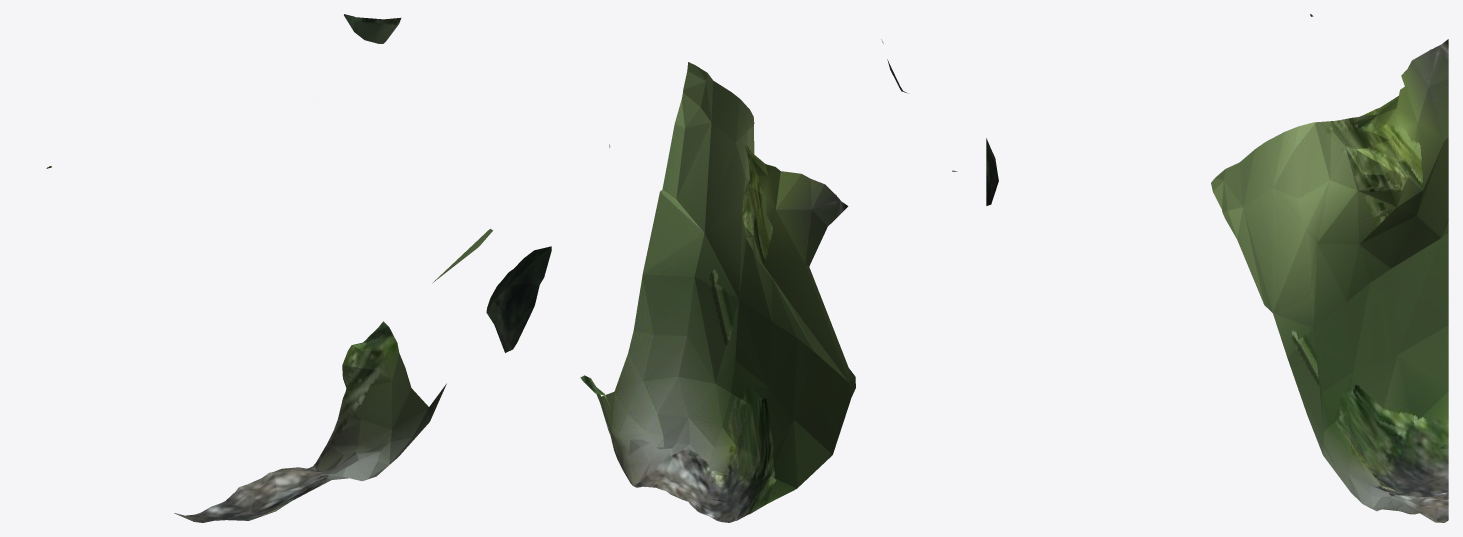
3 views of the same model, side by side, from view 1: azimuth 30°, elevation 25°; view 2: azimuth 150°, elevation 25°; view 3: azimuth 270°, elevation 25° (orthographic). The views are drawn at different scales.
Size of the model in its own units: 22.57 by 23.79 by 26.11.
2 materials, 2 textured.
